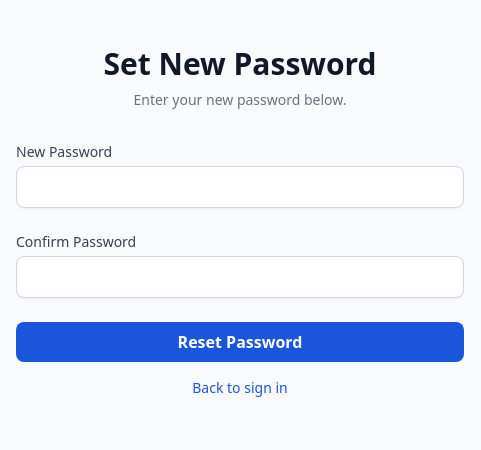
Reset Password Page › shows error on API failure
Type "NewPassword123!" into the password field labelled "New Password". click: (240, 187)
box: [16,166,464,208]
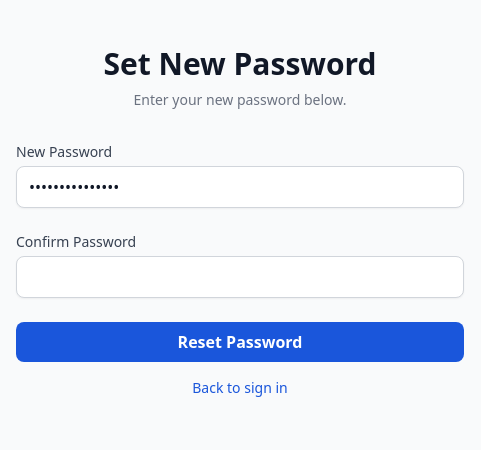
Type "NewPassword123!" into the password field labelled "Confirm Password". click: (240, 277)
box: [16,256,464,298]
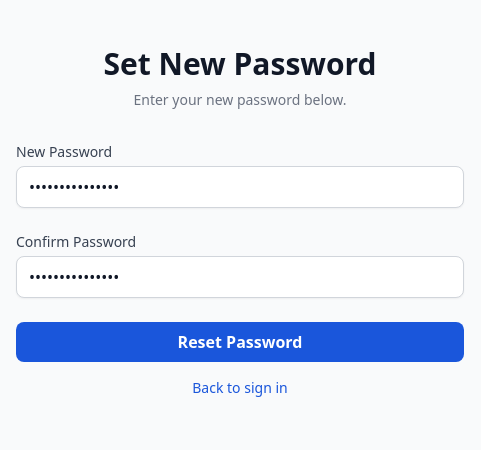
Click the button "Reset Password". click: (240, 342)
box: [16,322,464,362]
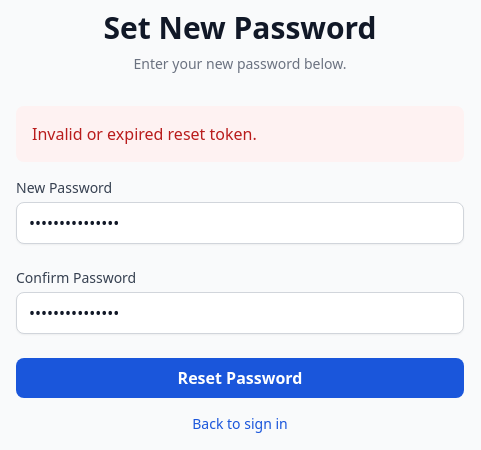
Check: the text "Invalid or expired reset token." is shown, box [16,106,464,162]
